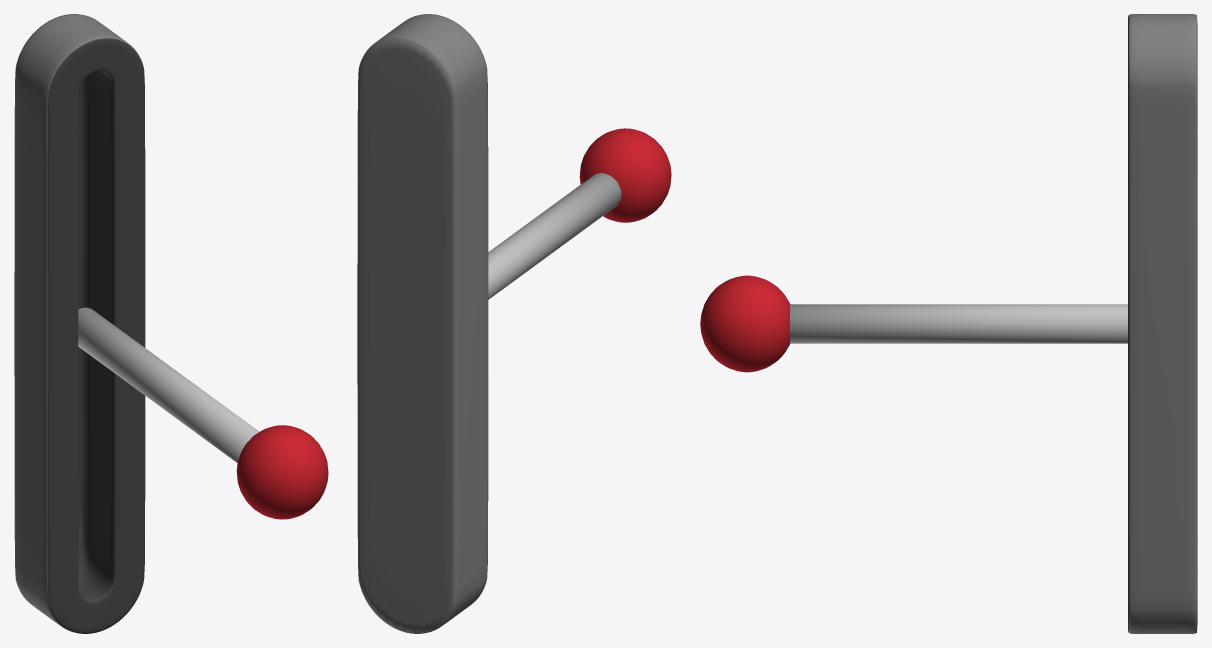
Rendered from Lever_Full_Model-transformed.glb.
The picture shows the model from 3 angles, left to right: view 1: azimuth 30°, elevation 25°; view 2: azimuth 150°, elevation 25°; view 3: azimuth 270°, elevation 25°; orthographic projection. The views are drawn at different scales.
Visible parts, largest first — view 1: Cylinder, Cylinder.001, Sphere; view 2: Cylinder, Cylinder.001, Sphere; view 3: Cylinder, Cylinder.001, Sphere.
Boxes of the visible parts, x1=… form: Cylinder: x1=14, y1=14, x2=145, y2=633; Cylinder.001: x1=78, y1=307, x2=259, y2=462; Sphere: x1=236, y1=425, x2=328, y2=519; Cylinder: x1=357, y1=14, x2=488, y2=633; Cylinder.001: x1=488, y1=173, x2=621, y2=299; Sphere: x1=579, y1=128, x2=671, y2=222; Cylinder: x1=1128, y1=14, x2=1197, y2=633; Cylinder.001: x1=789, y1=304, x2=1127, y2=343; Sphere: x1=700, y1=275, x2=790, y2=372.
Size of the model in its own units: 2 by 11.45 by 8.47.
